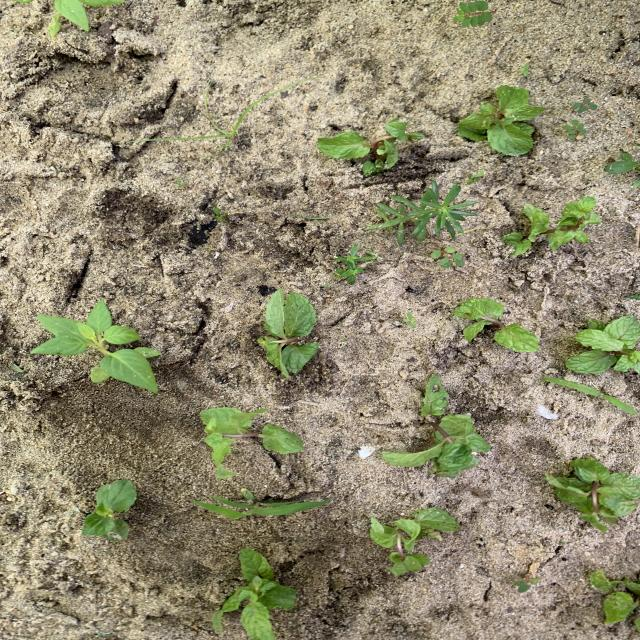crop: (32, 300, 159, 391), (382, 374, 489, 477), (213, 549, 295, 639), (202, 408, 302, 477), (546, 458, 639, 531), (318, 117, 423, 173), (370, 509, 459, 575), (459, 86, 545, 154), (503, 197, 600, 255), (258, 291, 319, 378), (454, 298, 539, 351), (567, 316, 639, 374), (82, 480, 137, 540), (589, 570, 639, 623), (48, 0, 87, 35)
weed: (161, 78, 311, 149), (366, 180, 476, 245), (194, 489, 326, 519), (544, 379, 636, 415), (335, 246, 372, 283), (454, 1, 491, 26), (606, 151, 639, 174), (431, 246, 463, 267), (562, 120, 586, 138), (513, 576, 539, 591), (572, 99, 598, 112), (214, 206, 229, 223), (467, 171, 483, 183), (403, 312, 415, 326), (175, 178, 187, 187), (521, 63, 529, 75), (11, 365, 23, 371)
